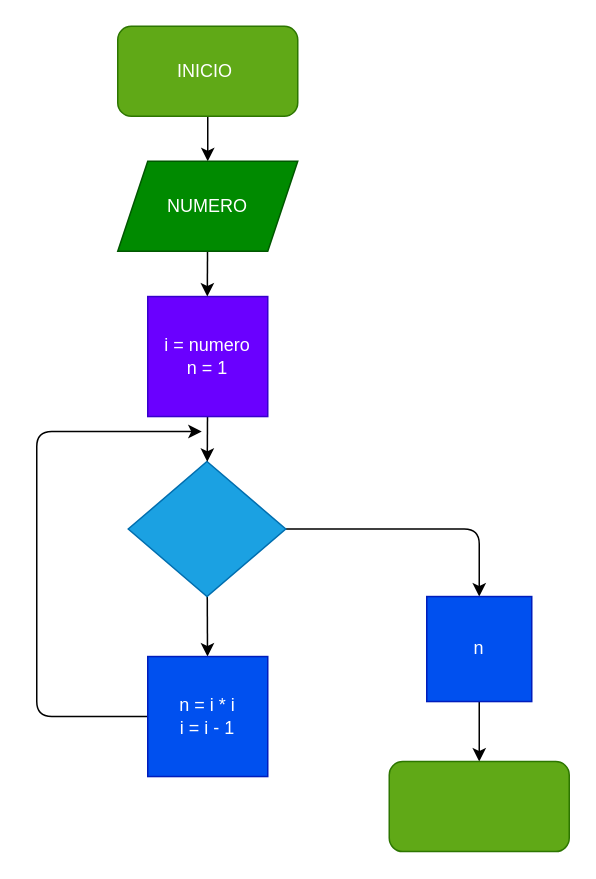
Some shapes in this 596 by 879 pixel diagram are drawn without their labels. Each missing label, with the centre of its shape:
"FIN" goes at point (478, 806).
"i >= 1" goes at point (206, 528).
